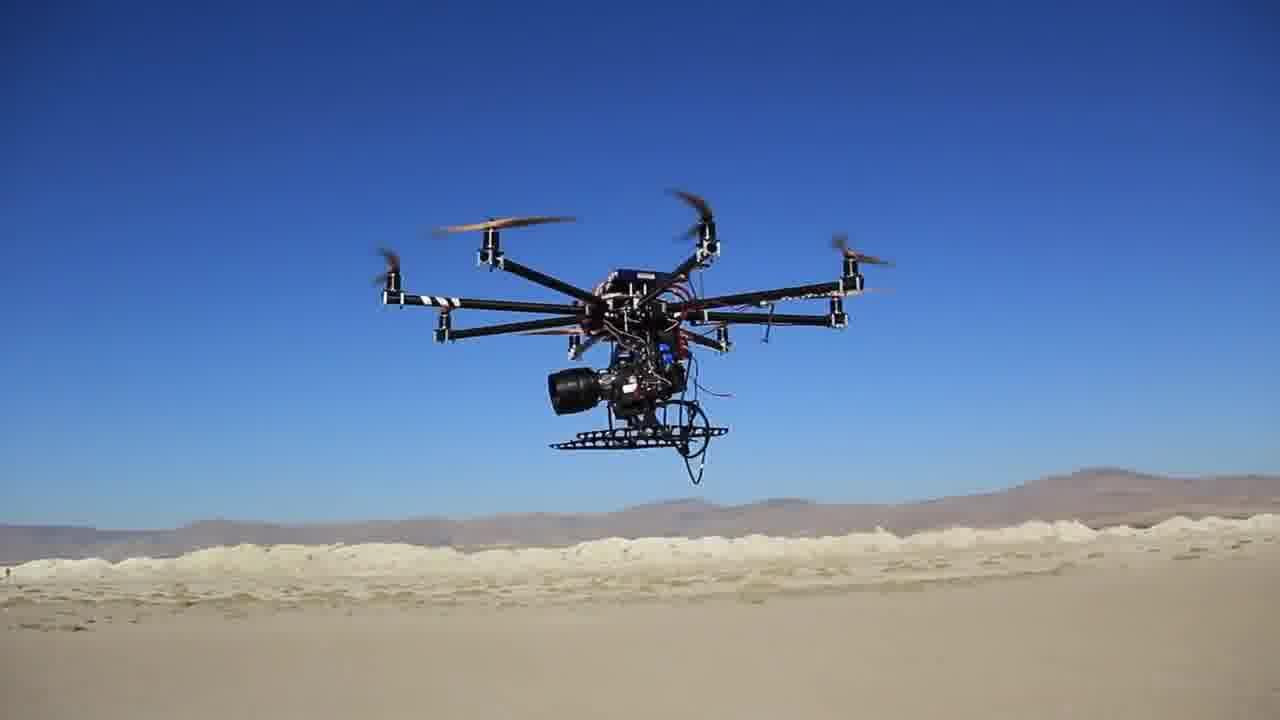drone: (358, 174, 856, 477)
